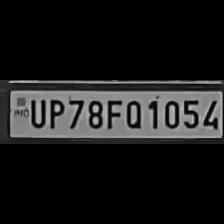0: (160, 96, 180, 130)
1: (144, 97, 160, 129)
4: (201, 96, 221, 130)
5: (180, 96, 198, 130)
7: (64, 96, 84, 130)
8: (85, 96, 103, 130)
F: (104, 96, 120, 130)
P: (44, 96, 64, 130)
Q: (123, 97, 143, 130)
U: (27, 96, 46, 128)
